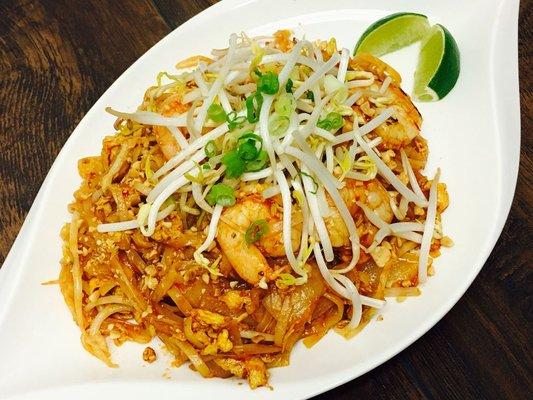curry: (2, 1, 524, 396)
